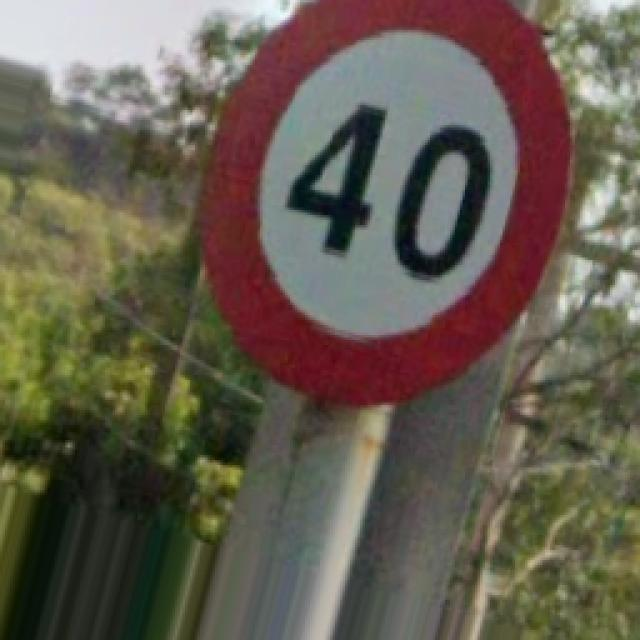Speed Limit -40-: (205, 0, 568, 402)
